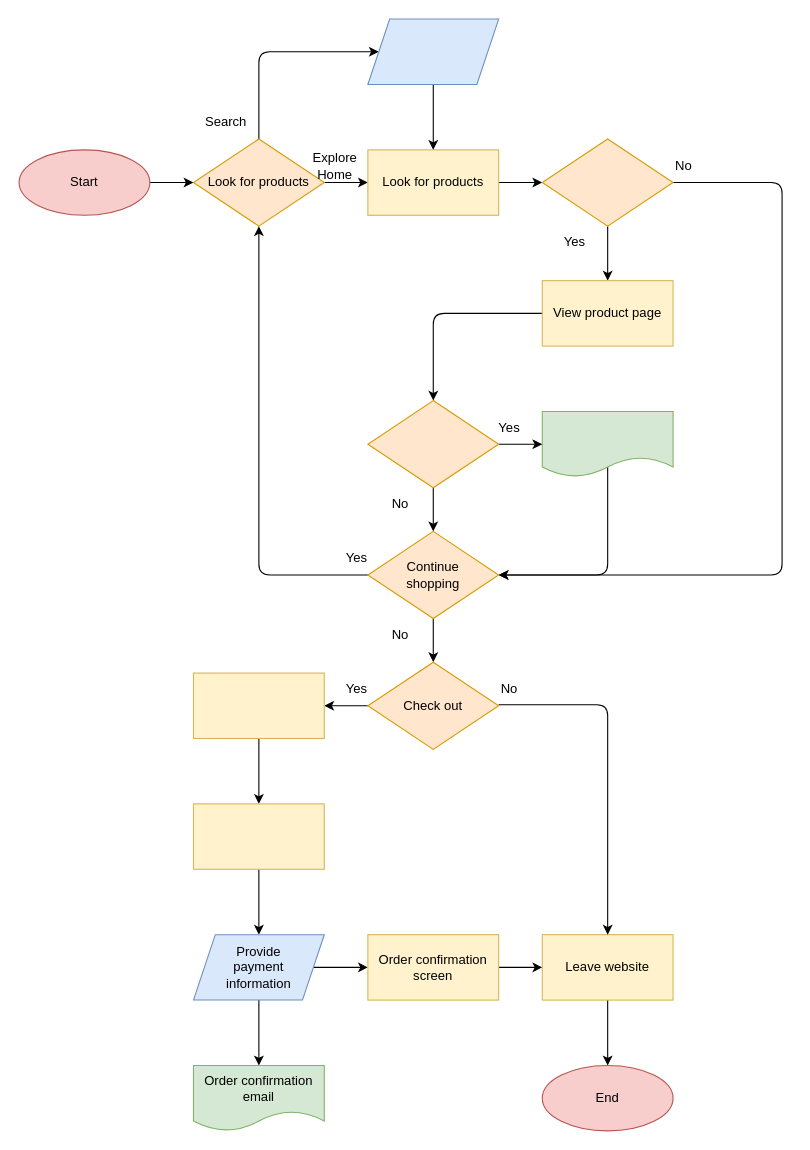
This 810x1150 diagram has some shape labels left out. Here are the shapes that lost their labels. From the top down, the centre of each, then its label:
[433,51]: Provide search input
[607,182]: View specific product
[433,443]: Add to cart
[607,443]: Added to card confirmation
[258,705]: View cart
[258,836]: View payment
